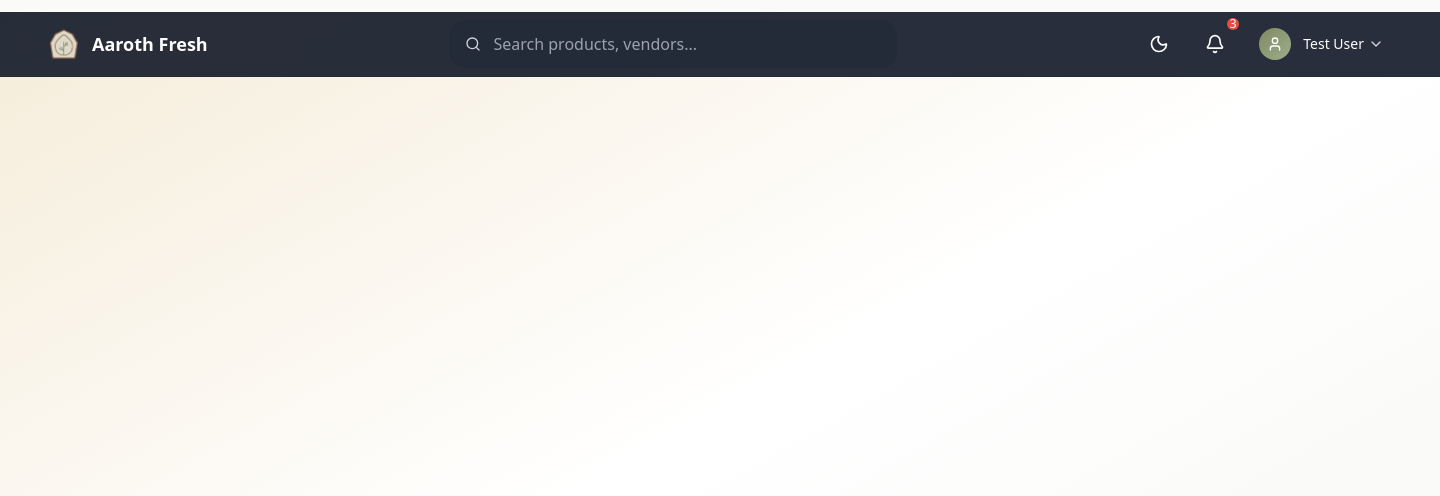
Test: Header › opens and closes user menu
The image size is (1440, 496).
Expected: the text "Profile" is not shown
Open menu
What coordinates should you click on to do the following:
click the button with aria-label "User menu"
I would click on:
 (1322, 44)
Its box is top-left (1251, 20), bottom-right (1392, 68).
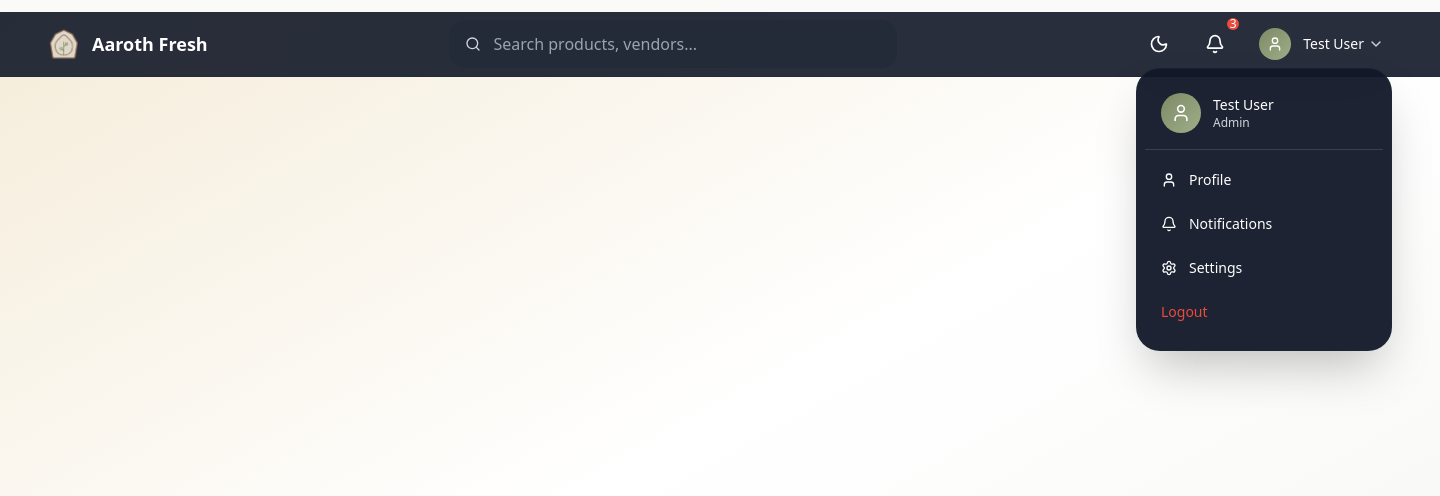
Expected: the text "Profile" is shown, top-left (1189, 170), bottom-right (1231, 190)
Expected: the text "Settings" is shown, top-left (1189, 258), bottom-right (1242, 278)
Expected: the text "Logout" is shown, top-left (1161, 302), bottom-right (1208, 322)
